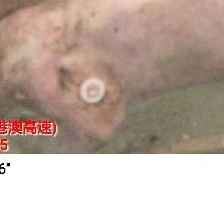text: (70, 66, 119, 116)
